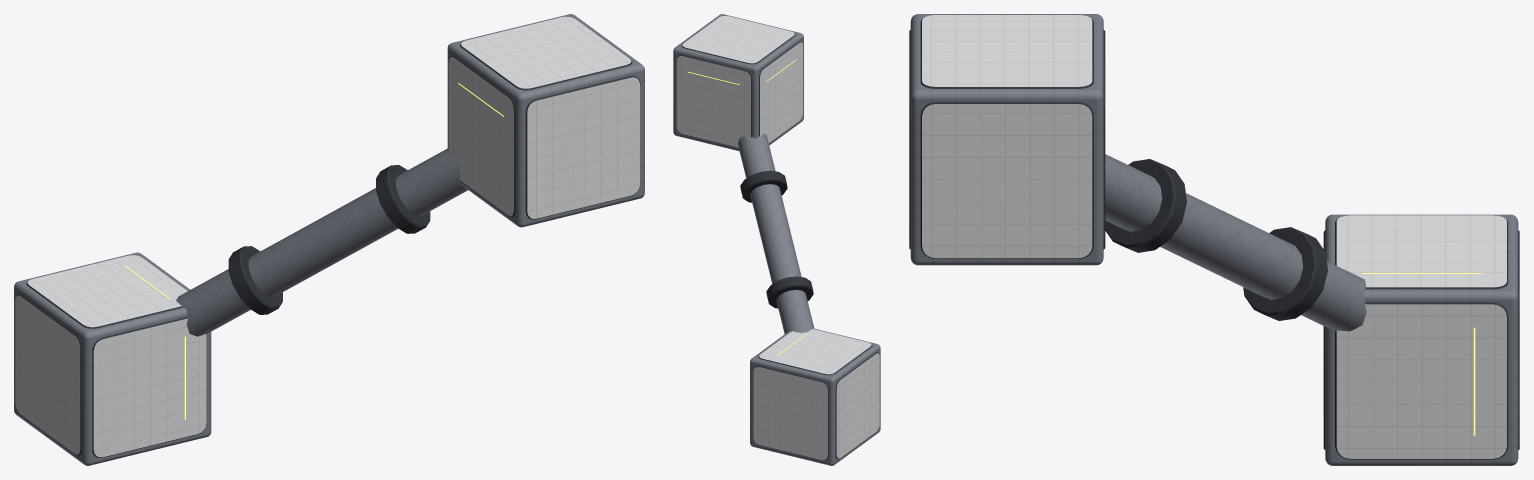
The model's file is R4C_STRUT_DIAG_3D.glb.
3 views of the same model, side by side, from view 1: azimuth 30°, elevation 25°; view 2: azimuth 150°, elevation 25°; view 3: azimuth 270°, elevation 25° (orthographic). The views are drawn at different scales.
Visible parts, largest first — view 1: R4C_STRUT_DIAG_3D; view 2: R4C_STRUT_DIAG_3D; view 3: R4C_STRUT_DIAG_3D.
Boxes of the visible parts, left/top/right/bottom form: R4C_STRUT_DIAG_3D: left=14, top=14, right=644, bottom=465; R4C_STRUT_DIAG_3D: left=673, top=14, right=880, bottom=465; R4C_STRUT_DIAG_3D: left=909, top=14, right=1519, bottom=465.
Bounding box in the file's own units: 1.62 × 1.62 × 1.62.
4 materials, 3 textured.
